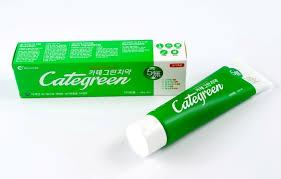toothpaste: (121, 57, 276, 161)
